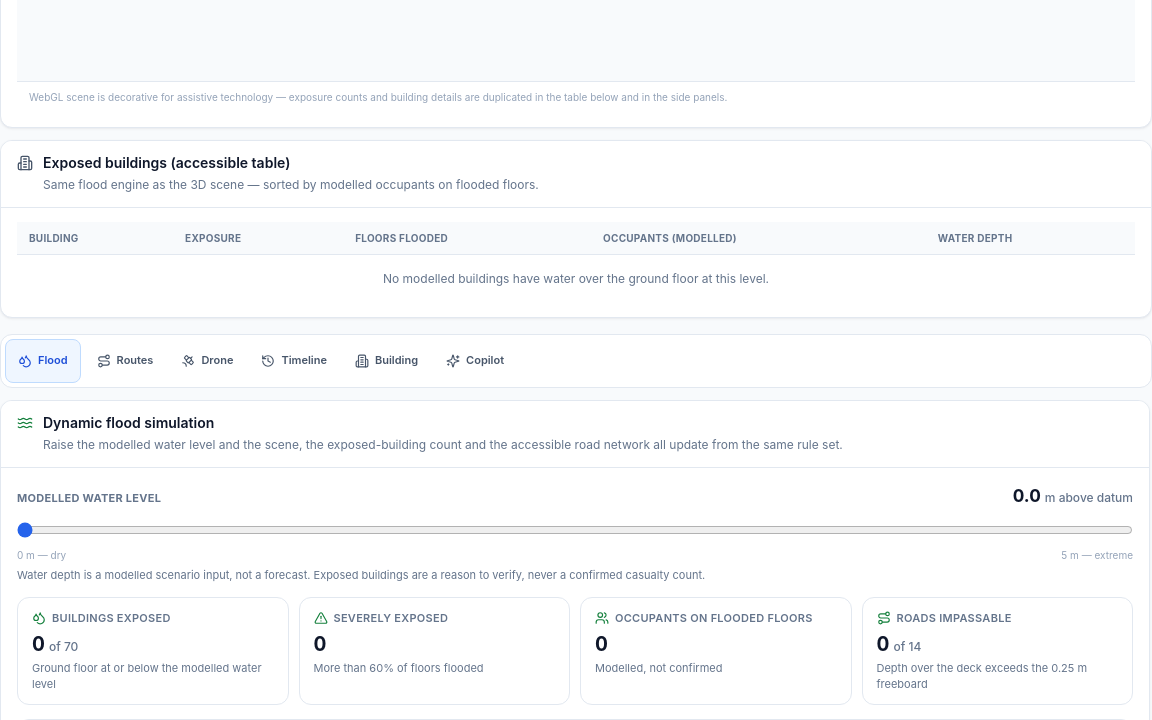
Test: TwinDisasterView › generates a route and shows Dijkstra reasoning
(page scrolled)
Step 1. Click the button "Routes" → click(125, 360), box 85,338 -> 165,382
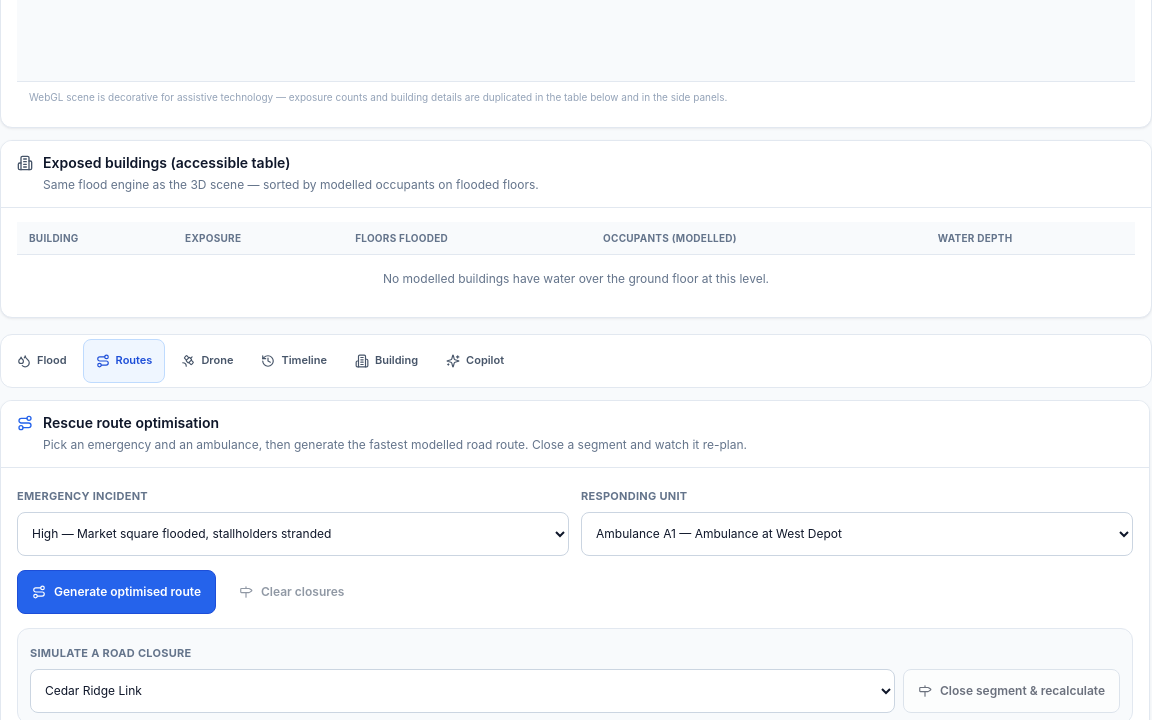
Step 2. Click the button "Generate optimised route" → click(116, 592), box 17,570 -> 216,614
(page scrolled)
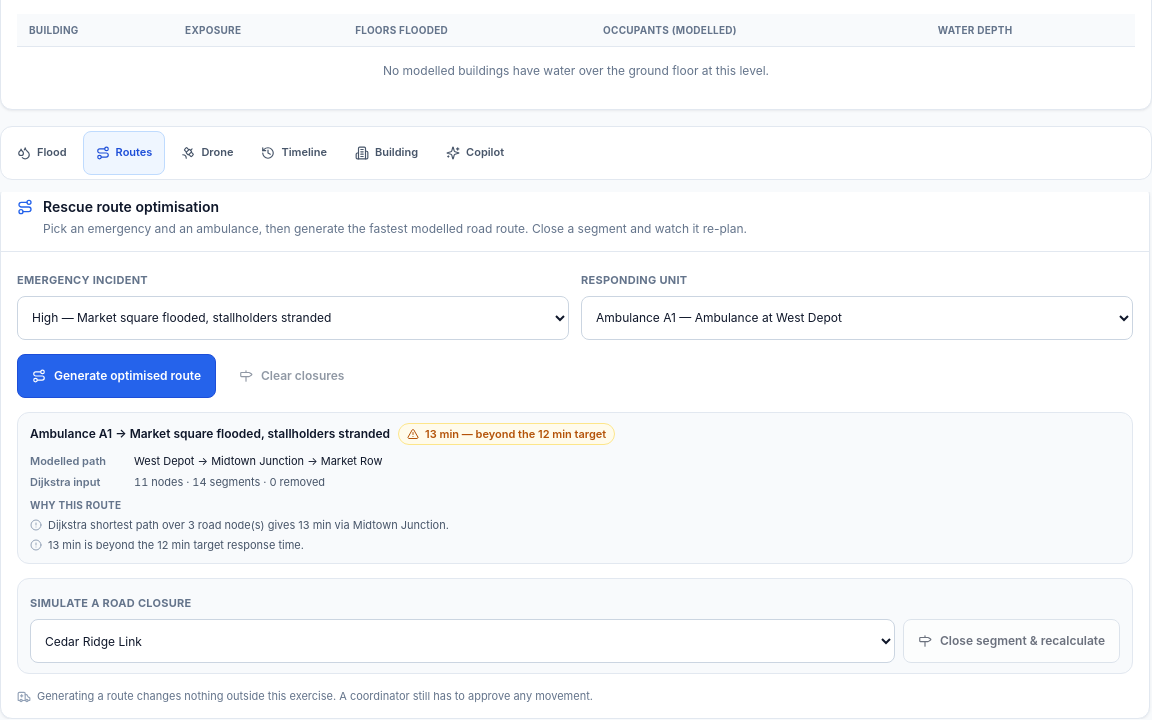
Expected: the heading "Why this route" is shown, 30,499 -> 121,511
